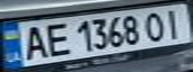1: (72, 17, 93, 53)
3: (90, 16, 112, 51)
6: (106, 15, 127, 48)
8: (121, 12, 145, 46)
A: (18, 22, 51, 61)
E: (39, 20, 72, 57)
I: (157, 7, 190, 38)
O: (139, 9, 169, 42)
